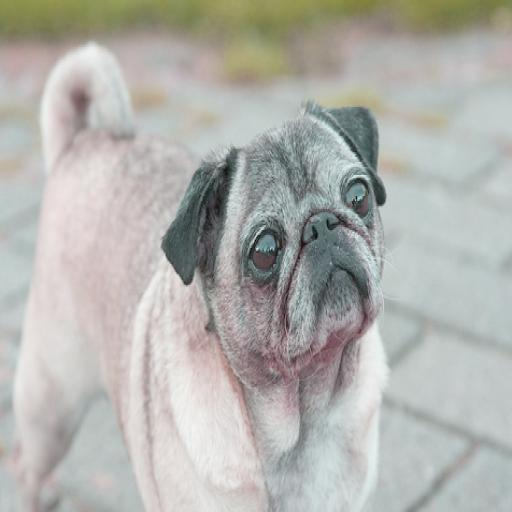dog_face: (165, 103, 388, 378)
